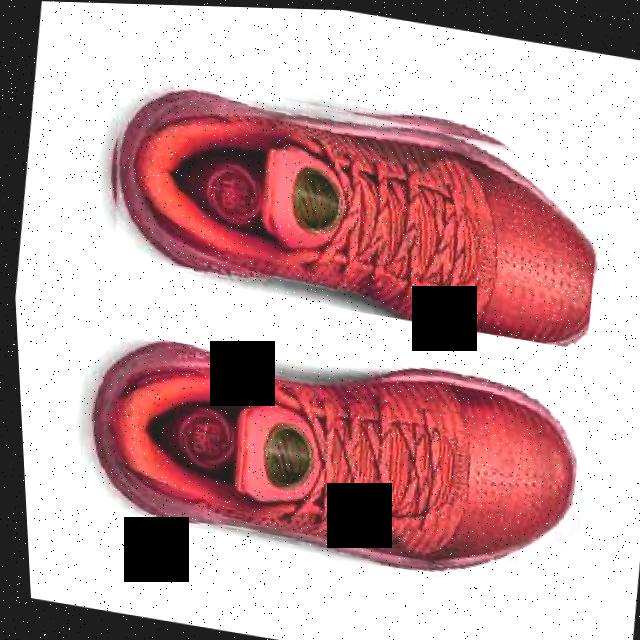shoe: (60, 307, 588, 591), (89, 62, 612, 348)
